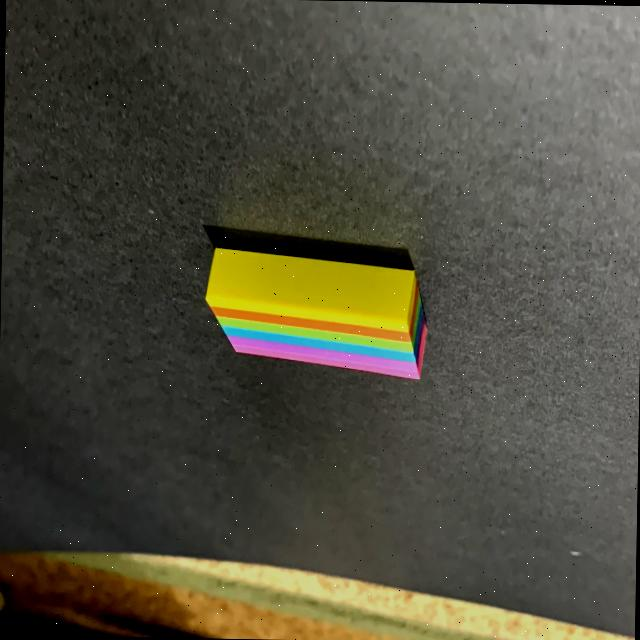Eraser: (180, 216, 462, 405)
